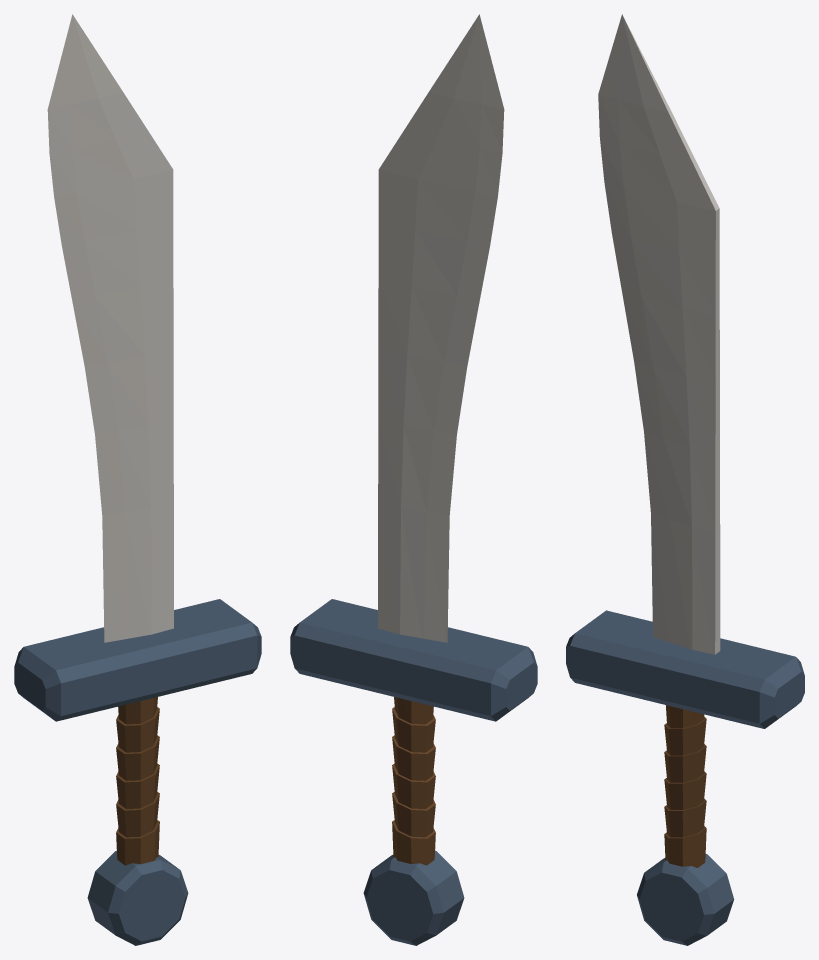
The model's file is falchion-cf01a7.glb.
3 renders of one model, left to right at view 1: azimuth 30°, elevation 25°; view 2: azimuth 150°, elevation 25°; view 3: azimuth 330°, elevation 25°, orthographic. The views are drawn at different scales.
Parts seen in each view (by area): view 1: falchion-body; view 2: falchion-body; view 3: falchion-body.
Part boxes in pixels (x1=…): falchion-body: x1=14, y1=14, x2=261, y2=945; falchion-body: x1=290, y1=14, x2=537, y2=945; falchion-body: x1=566, y1=14, x2=804, y2=945.
Bounding box in the file's own units: 0.22 × 0.913 × 0.075.
